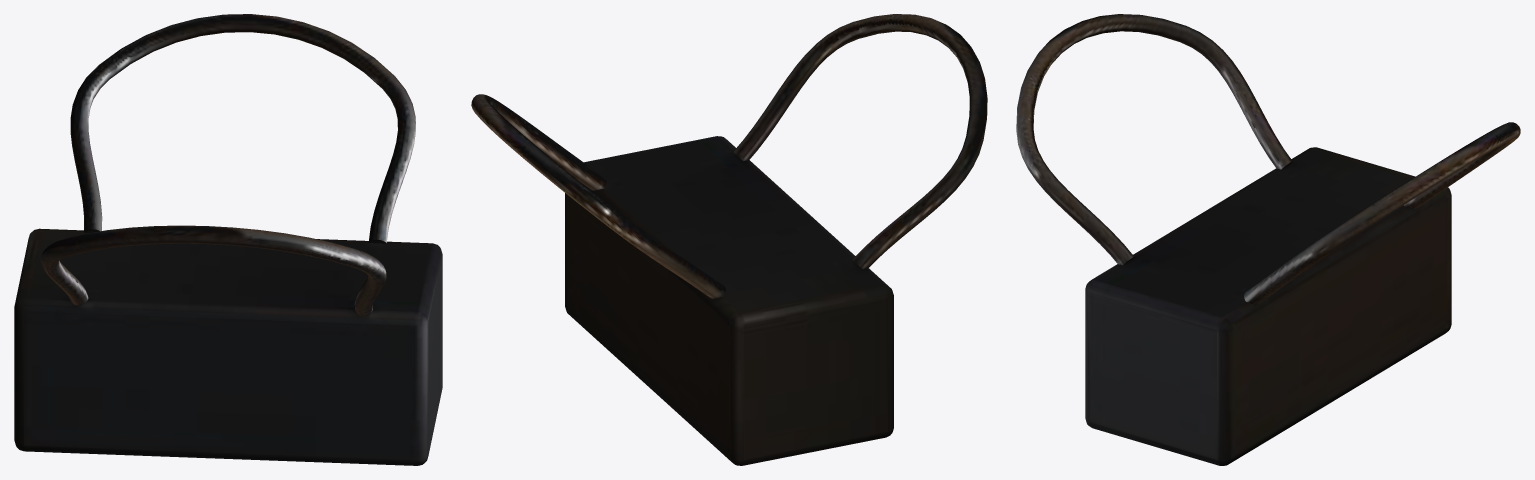
Rendered from binder.glb.
3 renders of one model, left to right at view 1: azimuth 30°, elevation 25°; view 2: azimuth 150°, elevation 25°; view 3: azimuth 270°, elevation 25°, orthographic. The views are drawn at different scales.
Visible parts, largest first — view 1: bd_body, bd_wire_1, bd_wire_-1; view 2: bd_body, bd_wire_-1, bd_wire_1; view 3: bd_body, bd_wire_-1, bd_wire_1.
Boxes of the visible parts, <box> form: bd_body: <box>14,228,442,465</box>; bd_wire_1: <box>70,14,415,243</box>; bd_wire_-1: <box>41,225,386,315</box>; bd_body: <box>565,136,893,465</box>; bd_wire_-1: <box>733,14,987,269</box>; bd_wire_1: <box>471,94,725,298</box>; bd_body: <box>1085,147,1451,465</box>; bd_wire_-1: <box>1016,14,1292,265</box>; bd_wire_1: <box>1244,122,1520,304</box>.
Size of the model in its own units: 0.0382 by 0.0257 by 0.0402.
Materials: 3 (3 with a texture image).
